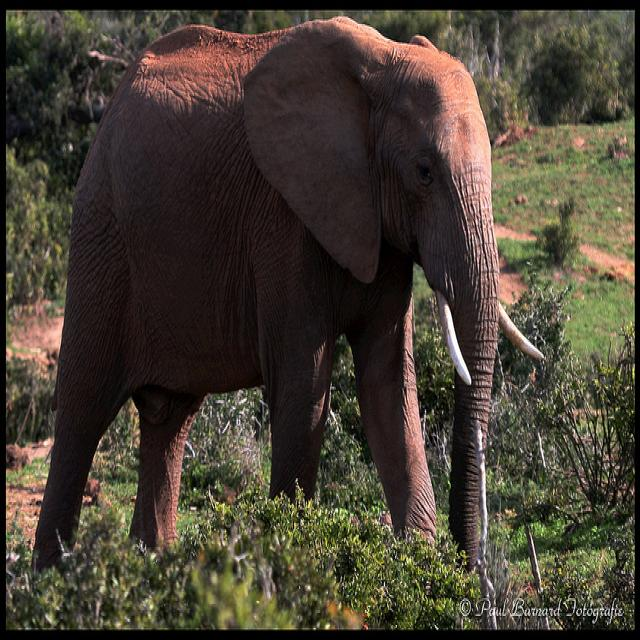Elephant: (30, 15, 545, 609)
